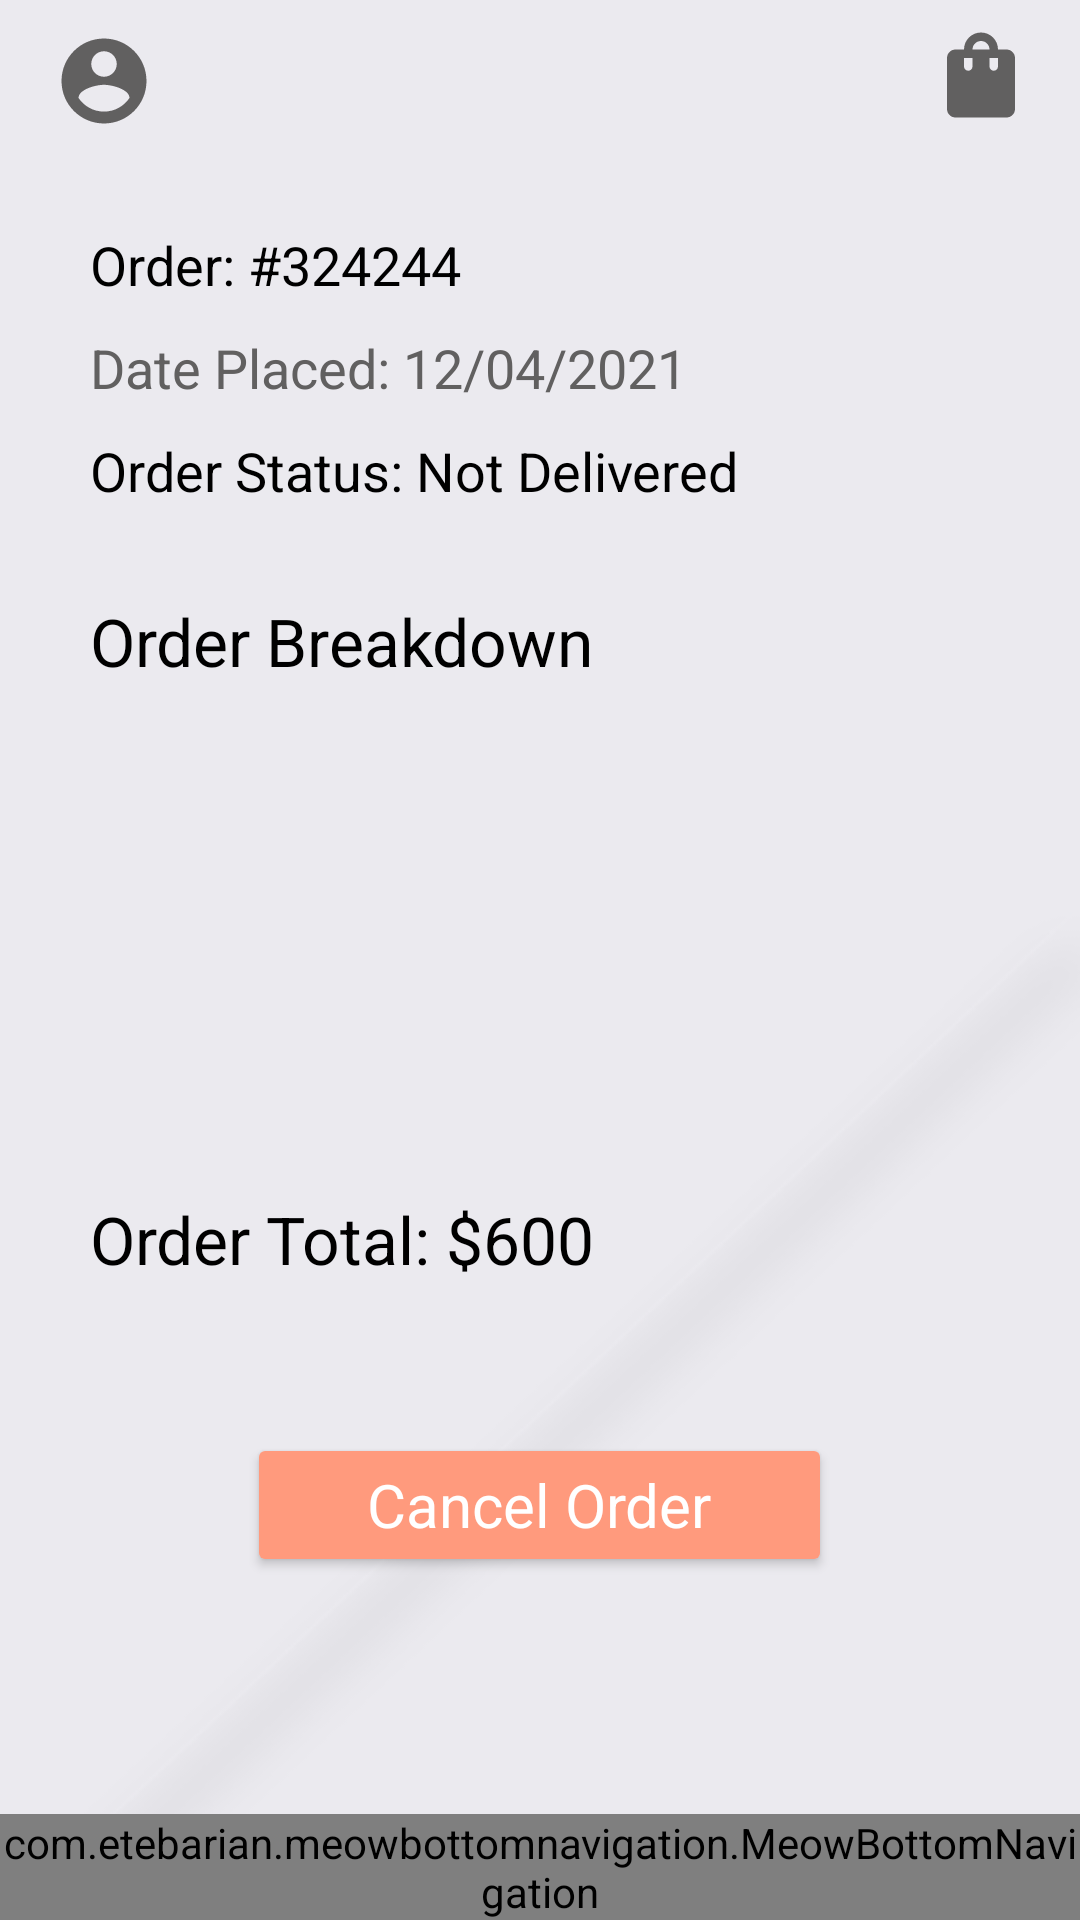

Screen size 1080w x 1920h. Icon name, then its center in pixels as [x,y]:
account: [104,81]
shopping bag: [981,75]
